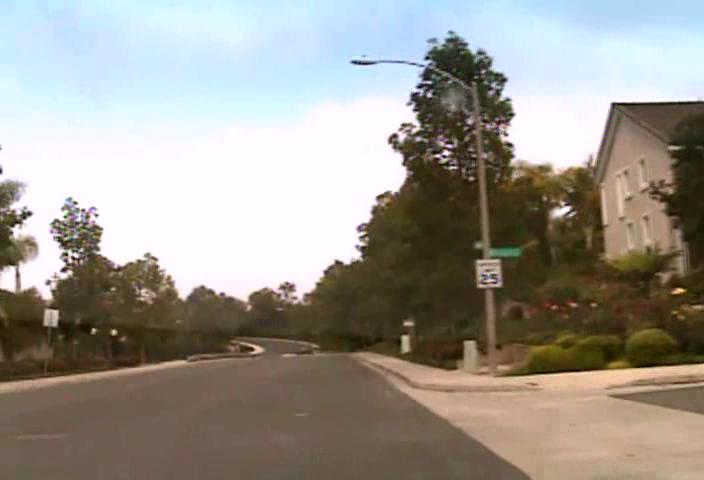speedLimit25: (474, 258, 502, 289)
